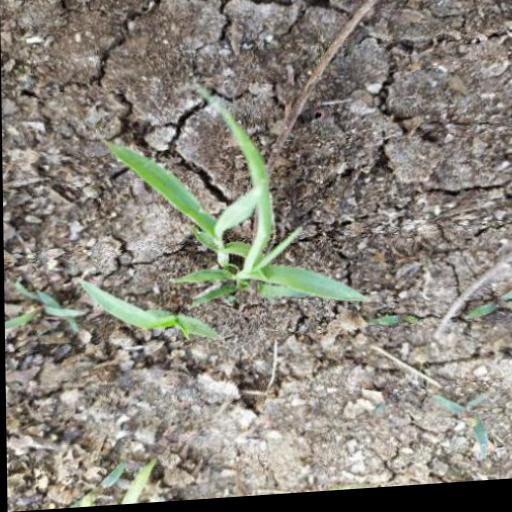weed: (72, 75, 381, 410)
